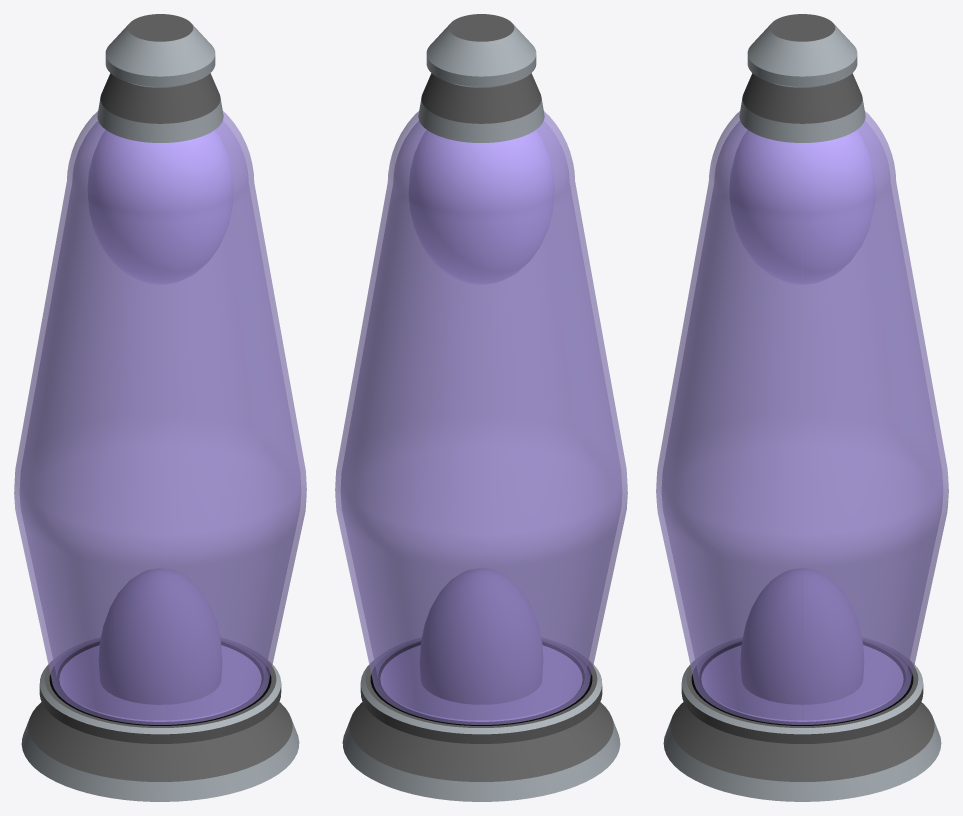
Rendered from Lavalamp1.fbx.
3 views of the same model, side by side, from view 1: azimuth 30°, elevation 25°; view 2: azimuth 150°, elevation 25°; view 3: azimuth 270°, elevation 25° (orthographic).
Visible parts, largest first — view 1: _glass1, __base, lava_top, lava_bottom, __top; view 2: _glass1, __base, lava_top, lava_bottom, __top; view 3: _glass1, __base, lava_top, lava_bottom, __top.
Part boxes in pixels (bbox=[...]): _glass1: bbox=[14, 111, 306, 724]; __base: bbox=[21, 641, 299, 801]; lava_top: bbox=[87, 130, 233, 284]; lava_bottom: bbox=[99, 568, 221, 704]; __top: bbox=[97, 14, 223, 142]; _glass1: bbox=[335, 111, 627, 724]; __base: bbox=[342, 641, 620, 801]; lava_top: bbox=[409, 130, 554, 284]; lava_bottom: bbox=[420, 568, 542, 704]; __top: bbox=[418, 14, 544, 142]; _glass1: bbox=[656, 111, 948, 724]; __base: bbox=[663, 641, 941, 801]; lava_top: bbox=[729, 130, 875, 284]; lava_bottom: bbox=[740, 568, 863, 704]; __top: bbox=[739, 14, 865, 142].
Bounding box in the file's own units: 0.887 × 2.42 × 0.887.
